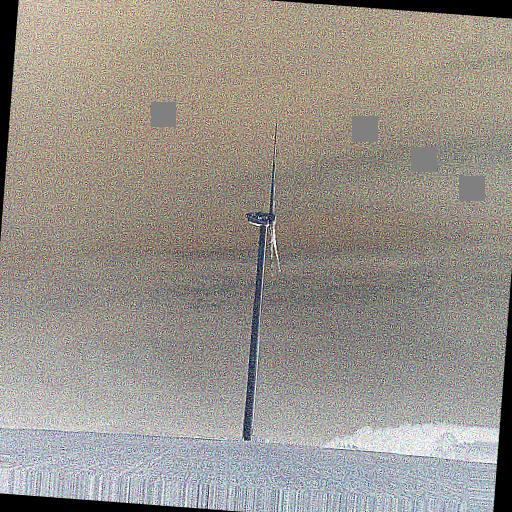wind turbine: (242, 123, 283, 445)
